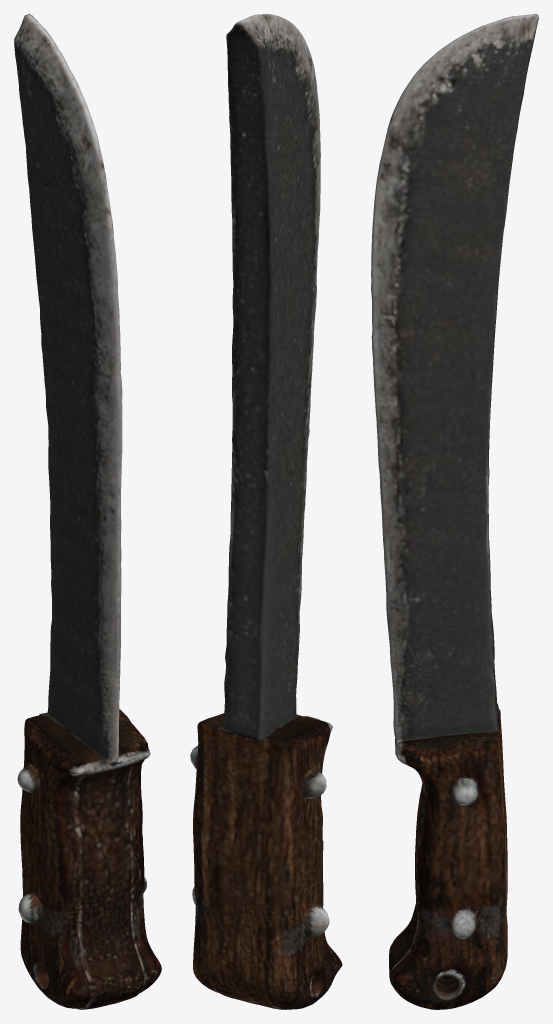
The model's file is melee_machete.6c5df730eb.glb.
3 views of the same model, side by side, from view 1: azimuth 30°, elevation 25°; view 2: azimuth 150°, elevation 25°; view 3: azimuth 270°, elevation 25° (orthographic). The views are drawn at different scales.
Visible parts, largest first — view 1: melee_machete; view 2: melee_machete; view 3: melee_machete.
Part boxes in pixels (x1,y1,x2,y2): melee_machete: [14, 14, 161, 1009]; melee_machete: [190, 14, 342, 1009]; melee_machete: [371, 14, 538, 1009].
Size of the model in its own units: 0.082 by 0.6 by 0.0939.
Materials: 1 (1 with a texture image).
